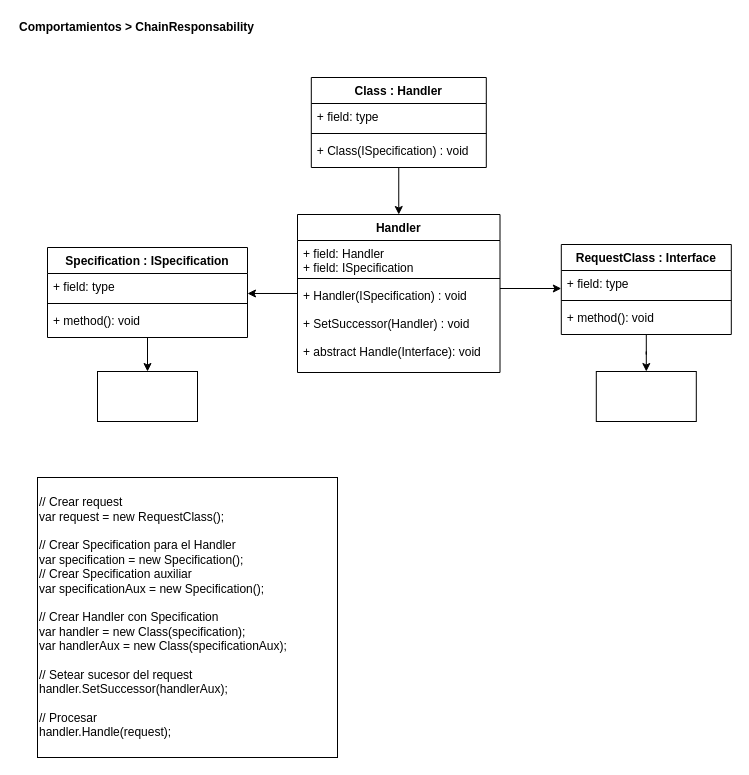
Some shapes in this 749 by 775 pixel diagram are drawn without their labels. The centre of each missing label's shape, as x and y in pixels:
«interface» Interface: [645,396]
«interface» ISpecification: [147,396]
